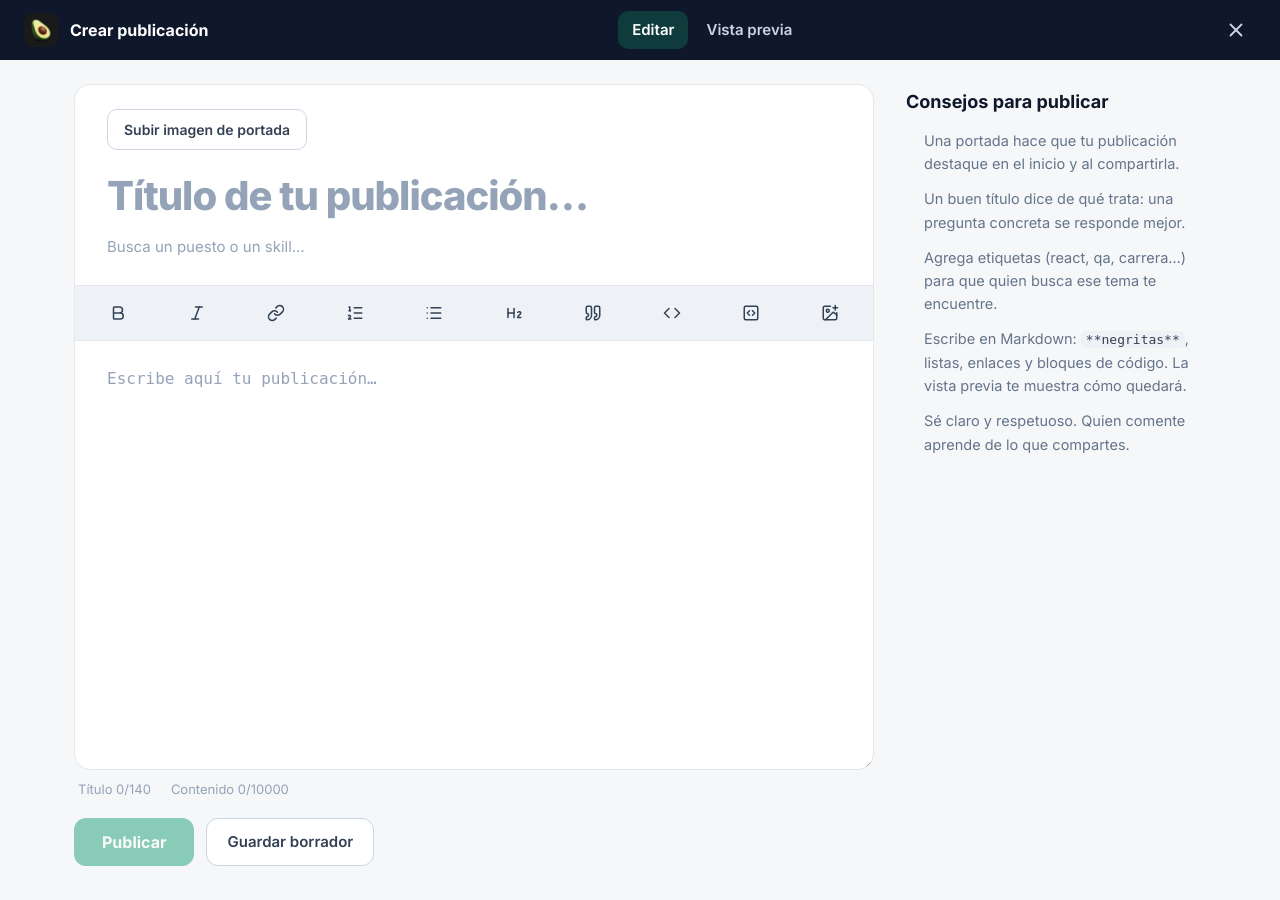
Test: the draft › "Guardar borrador" saves it at once and says so
The image size is (1280, 900).
Type "¿Cómo estructuran sus pruebas?" into the text box labelled "Título". click: (474, 191)
box: [75,158,873,224]
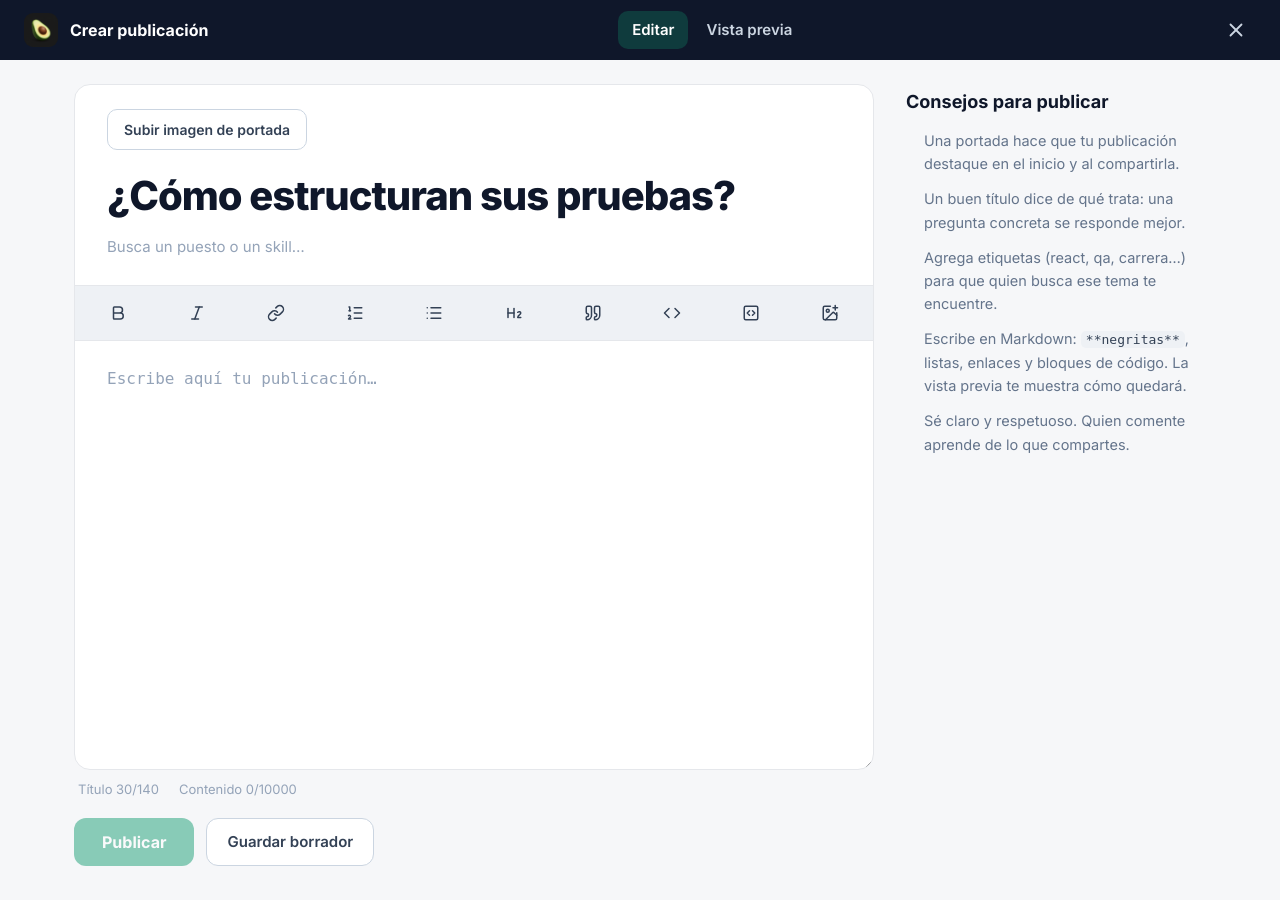
Type "Estoy armando la estrategia de pruebas de un equipo nuevo y quiero saber cómo lo hacen ustedes." into the text box named "Contenido". click: (474, 555)
box: [75,340,873,769]
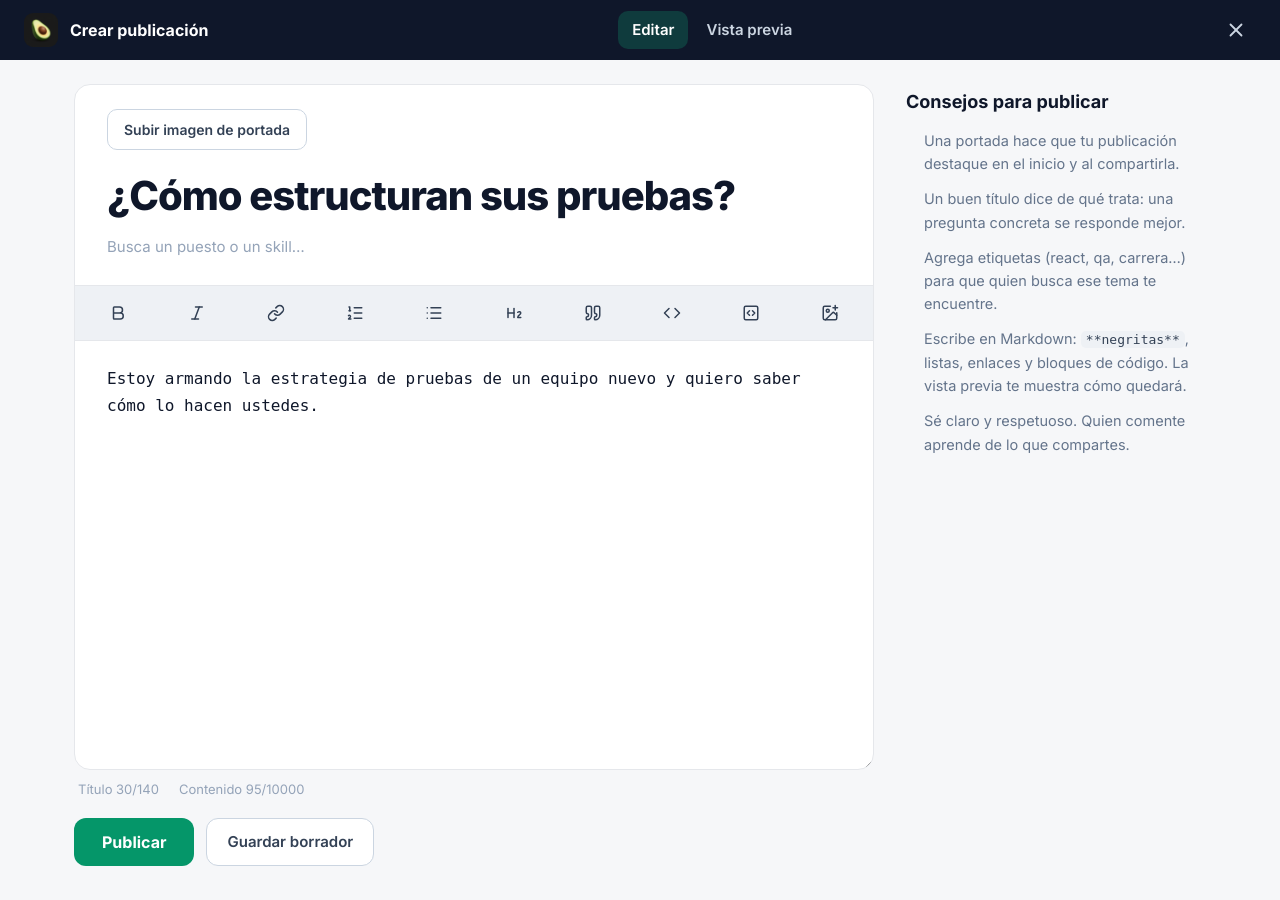
Click the button "Guardar borrador". click: (290, 842)
box: [206,818,374,866]
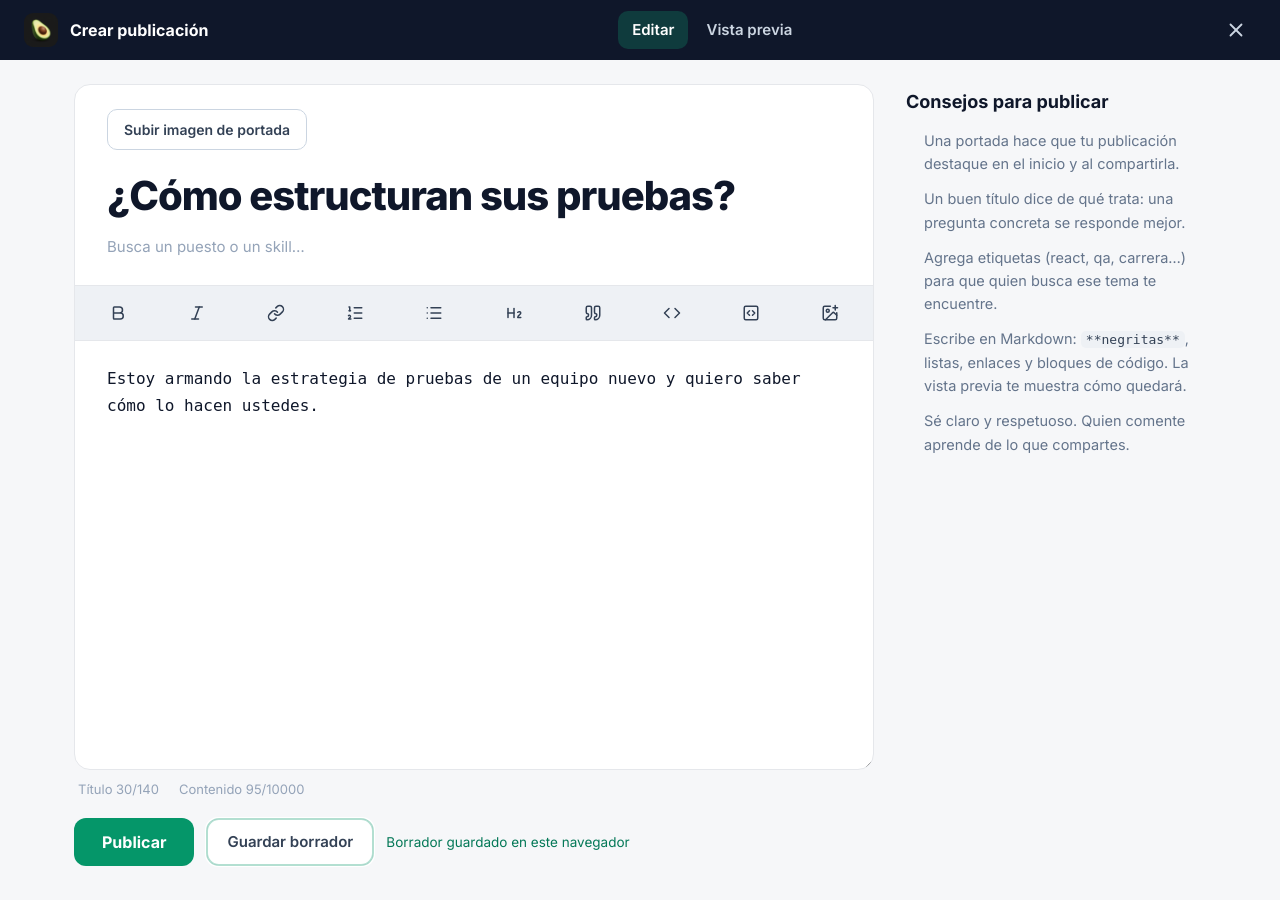
Check: the message shows "Borrador guardado", box [386,834,630,850]
